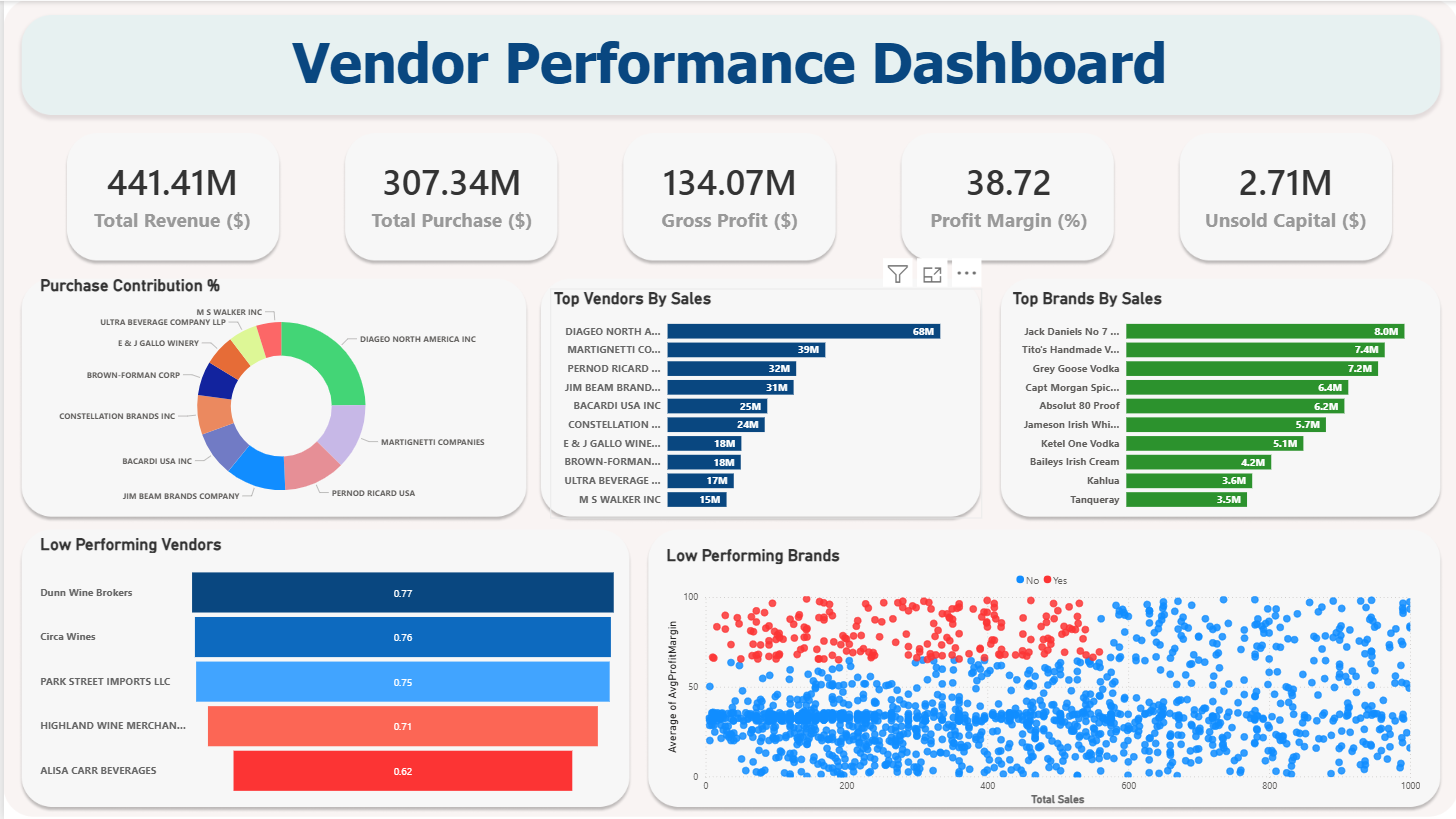

What the dashboard file says about the page in this screenshot:
{"tool":"powerbi","page":{"name":"Page 1","canvas":[1920,1080],"ordinal":0},"visuals":[{"type":"cardVisual","fields":{"Data":["Sum(vendor_sales_summary.TotalSalesDollars)"]},"box":[80.4,162.5,283.9,183.9],"z":0},{"type":"textbox","box":[43.1,29.4,1829.4,109.8],"z":1000},{"type":"donutChart","title":"Purchase Contribution %","fields":{"Category":["Purchase_Contribution.VendorName"],"Y":["Sum(Purchase_Contribution.PurchaseContribution%)"]},"box":[42.9,362.5,646.4,319.6],"z":2000},{"type":"barChart","title":"Top Vendors By Sales","fields":{"Category":["vendor_sales_summary.VendorName"],"Y":["Sum(vendor_sales_summary.TotalSalesDollars)"]},"box":[721.4,378.6,569.6,303.6],"z":3000},{"type":"barChart","title":"Top Brands By Sales","fields":{"Y":["Sum(vendor_sales_summary.TotalSalesDollars)"],"Category":["vendor_sales_summary.Description"]},"box":[1326.8,378.6,569.6,303.6],"z":4000},{"type":"cardVisual","fields":{"Data":["Sum(vendor_sales_summary.TotalPurchaseDollars)"]},"box":[448.2,162.5,285.7,183.9],"z":5000},{"type":"cardVisual","fields":{"Data":["Sum(vendor_sales_summary.GrossProfit)"]},"box":[816.1,162.5,283.9,183.9],"z":6000},{"type":"cardVisual","fields":{"Data":["Avg(vendor_sales_summary.ProfitMargin)"]},"box":[1182.1,162.5,287.5,183.9],"z":7000},{"type":"cardVisual","fields":{"Data":["Sum(vendor_sales_summary.UnsoldCapital)"]},"box":[1550,162.5,282.1,183.9],"z":8000},{"type":"funnel","title":"Low Performing Vendors","fields":{"Category":["LowTurnoverVendor.VendorName"],"Y":["Avg(LowTurnoverVendor.AvgStockTurnover)"]},"box":[43.2,703.9,771.9,362.3],"z":9000},{"type":"scatterChart","title":"Low Performing Brands","fields":{"Category":["BrandPerformance.Description"],"X":["Sum(BrandPerformance.TotalSales)"],"Y":["Avg(BrandPerformance.AvgProfitMargin)"],"Series":["BrandPerformance.TargetBrand"]},"box":[868.6,718.4,1004.5,347.9],"z":10000}]}

Visuals, with their boxes in screenshot pixels (x1, y1, x2, y2), scaled from the page's 1920x1080 canvas onto the 1456x819 screenshot:
cardVisual - Sum(vendor_sales_summary.TotalSalesDollars): {"left": 61, "top": 123, "right": 276, "bottom": 263}
textbox: {"left": 33, "top": 22, "right": 1420, "bottom": 106}
"Purchase Contribution %" donutChart: {"left": 33, "top": 275, "right": 523, "bottom": 517}
"Top Vendors By Sales" barChart: {"left": 547, "top": 287, "right": 979, "bottom": 517}
"Top Brands By Sales" barChart: {"left": 1006, "top": 287, "right": 1438, "bottom": 517}
cardVisual - Sum(vendor_sales_summary.TotalPurchaseDollars): {"left": 340, "top": 123, "right": 557, "bottom": 263}
cardVisual - Sum(vendor_sales_summary.GrossProfit): {"left": 619, "top": 123, "right": 834, "bottom": 263}
cardVisual - Avg(vendor_sales_summary.ProfitMargin): {"left": 896, "top": 123, "right": 1114, "bottom": 263}
cardVisual - Sum(vendor_sales_summary.UnsoldCapital): {"left": 1175, "top": 123, "right": 1389, "bottom": 263}
"Low Performing Vendors" funnel: {"left": 33, "top": 534, "right": 618, "bottom": 809}
"Low Performing Brands" scatterChart: {"left": 659, "top": 545, "right": 1420, "bottom": 809}
